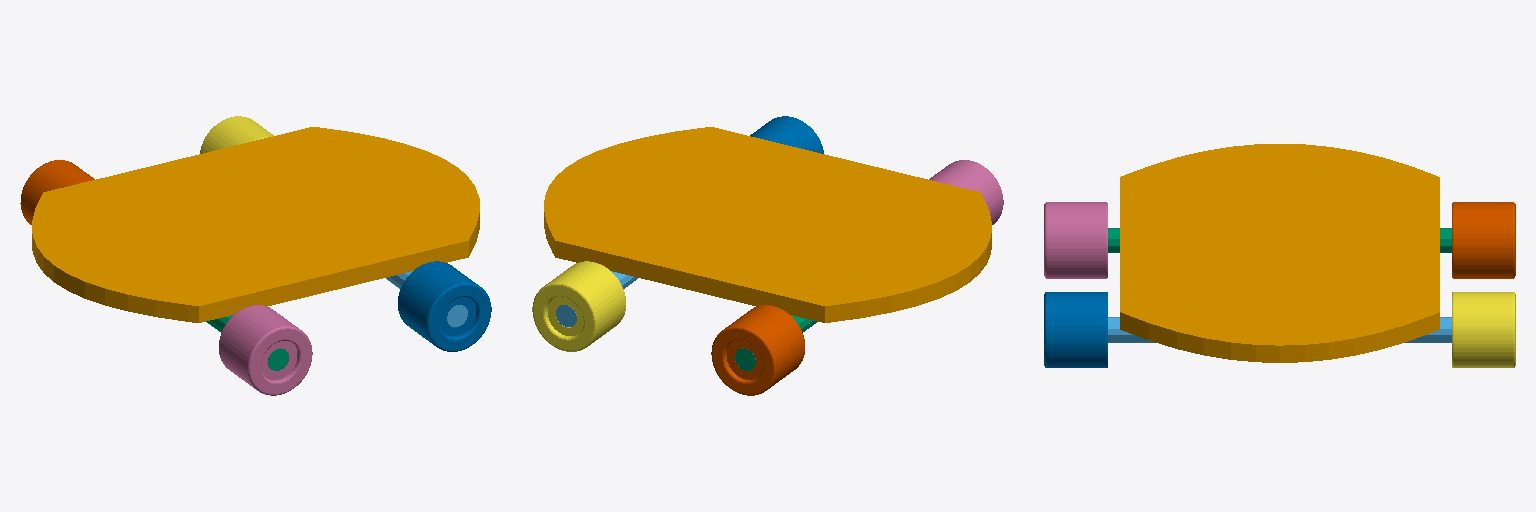
The robot description file, URDF, robot "bot":
<?xml version="1.0" ?>
<!-- =================================================================================== -->
<!-- |    This document was autogenerated by xacro from chassis_bot_xacro.xacro        | -->
<!-- |    EDITING THIS FILE BY HAND IS NOT RECOMMENDED                                 | -->
<!-- =================================================================================== -->
<robot name="bot" xmlns:xacro="https://www.ros.org/wiki/xacro">
  <link name="base_link_bot">
    <visual>
      <origin rpy="0 0 0" xyz="0 0 0"/>
      <geometry>
        <mesh filename="package://flip1_description/meshes/base_link_bot.STL"/>
      </geometry>
      <material name="blue"/>
    </visual>
    <collision>
      <origin rpy="0 0 0" xyz="0 0 0"/>
      <geometry>
        <mesh filename="package://flip1_description/meshes/base_link_bot.STL"/>
      </geometry>
    </collision>
    <inertial>
      <mass value="9.976679411"/>
      <origin rpy="0 0 0" xyz="-1.84685805937335E-06 0 0.015"/>
      <inertia ixx="0.187958008238022" ixy="3.08331692261721E-07" ixz="3.17637355220364E-19" iyy="0.381816176166743" iyz="1.41513138596527E-18" izz="0.568277677102426"/>
    </inertial>
  </link>
  <link name="link1">
    <visual>
      <origin rpy="0 0 0" xyz="0 0 0"/>
      <geometry>
        <mesh filename="package://flip1_description/meshes/link1.STL"/>
      </geometry>
      <material name="orange"/>
    </visual>
    <collision>
      <origin rpy="0 0 0" xyz="0 0 0"/>
      <geometry>
        <mesh filename="package://flip1_description/meshes/link1.STL"/>
      </geometry>
    </collision>
    <inertial>
      <mass value="1.0019"/>
      <origin rpy="0 0 0" xyz="-1.1102E-16 -0.36 0.0026615"/>
      <inertia ixx="0.03933" ixy="5.6898E-21" ixz="8.3057E-21" iyy="0.00026796" iyz="-2.4157E-19" izz="0.039273"/>
    </inertial>
  </link>
  <link name="link2">
    <visual>
      <origin rpy="0 0 0" xyz="0 0 0"/>
      <geometry>
        <mesh filename="package://flip1_description/meshes/link2.STL"/>
      </geometry>
      <material name="orange"/>
    </visual>
    <collision>
      <origin rpy="0 0 0" xyz="0 0 0"/>
      <geometry>
        <mesh filename="package://flip1_description/meshes/link2.STL"/>
      </geometry>
    </collision>
    <inertial>
      <mass value="1.0019"/>
      <origin rpy="0 0 0" xyz="-1.11022302462516E-16 -0.36 0.00266148520433351"/>
      <inertia ixx="0.0393298433372476" ixy="1.31346575687572E-21" ixz="8.30571622249648E-21" iyy="0.000267958739020857" iyz="-9.65217337723654E-20" izz="0.0392729406311258"/>
    </inertial>
  </link>
  <link name="link3">
    <visual>
      <origin rpy="0 0 0" xyz="0 0 0"/>
      <geometry>
        <mesh filename="package://flip1_description/meshes/link3.STL"/>
      </geometry>
      <material name="purple"/>
    </visual>
    <collision>
      <origin rpy="0 0 0" xyz="0 0 0"/>
      <geometry>
        <mesh filename="package://flip1_description/meshes/link3.STL"/>
      </geometry>
    </collision>
    <inertial>
      <mass value="0.95841"/>
      <origin rpy="0 0 0" xyz="0 -2.7756E-17 0"/>
      <inertia ixx="0.00172" ixy="6.5405E-20" ixz="7.1492E-20" iyy="0.0019649" iyz="-1.0822E-19" izz="0.00172"/>
    </inertial>
  </link>
  <link name="link4">
    <visual>
      <origin rpy="0 0 0" xyz="0 0 0"/>
      <geometry>
        <mesh filename="package://flip1_description/meshes/link4.STL"/>
      </geometry>
      <material name="purple"/>
    </visual>
    <collision>
      <origin rpy="0 0 0" xyz="0 0 0"/>
      <geometry>
        <mesh filename="package://flip1_description/meshes/link4.STL"/>
      </geometry>
    </collision>
    <inertial>
      <mass value="0.95841"/>
      <origin rpy="0 0 0" xyz="0 -1.1102E-16 0"/>
      <inertia ixx="0.00172" ixy="3.8103E-20" ixz="7.1492E-20" iyy="0.0019649" iyz="-8.0921E-20" izz="0.00172"/>
    </inertial>
  </link>
  <link name="link5">
    <visual>
      <origin rpy="0 0 0" xyz="0 0 0"/>
      <geometry>
        <mesh filename="package://flip1_description/meshes/link5.STL"/>
      </geometry>
      <material name="purple"/>
    </visual>
    <collision>
      <origin rpy="0 0 0" xyz="0 0 0"/>
      <geometry>
        <mesh filename="package://flip1_description/meshes/link5.STL"/>
      </geometry>
    </collision>
    <inertial>
      <mass value="0.95841"/>
      <origin rpy="0 0 0" xyz="1.11022302462516E-16 -2.77555756156289E-17 0"/>
      <inertia ixx="0.00172004064353737" ixy="9.19911852675595E-22" ixz="5.42101086242752E-20" iyy="0.00196493476186237" iyz="-9.05839369835372E-20" izz="0.00172004064353737"/>
    </inertial>
  </link>
  <link name="link6">
    <visual>
      <origin rpy="0 0 0" xyz="0 0 0"/>
      <geometry>
        <mesh filename="package://flip1_description/meshes/link6.STL"/>
      </geometry>
      <material name="purple"/>
    </visual>
    <collision>
      <origin rpy="0 0 0" xyz="0 0 0"/>
      <geometry>
        <mesh filename="package://flip1_description/meshes/link6.STL"/>
      </geometry>
    </collision>
    <inertial>
      <mass value="0.95841"/>
      <origin rpy="0 0 0" xyz="1.1102E-16 -1.1102E-16 0"/>
      <inertia ixx="0.00172" ixy="-1.7049E-20" ixz="2.1684E-19" iyy="0.0019649" iyz="-9.2729E-20" izz="0.00172"/>
    </inertial>
  </link>
  <joint name="joint1" type="fixed">
    <origin rpy="0 0 0" xyz="0.16597 0.36 -0.04"/>
    <parent link="base_link_bot"/>
    <child link="link1"/>
  </joint>
  <joint name="joint2" type="fixed">
    <origin rpy="0 0 0" xyz="-0.16597 0.36 -0.04"/>
    <parent link="base_link_bot"/>
    <child link="link2"/>
  </joint>
  <joint name="joint3" type="continuous">
    <origin rpy="0 0 0" xyz="0 -0.041744 0"/>
    <parent link="link1"/>
    <child link="link3"/>
    <axis xyz="0 1 0"/>
  </joint>
  <joint name="joint4" type="continuous">
    <origin rpy="0 0 0" xyz="0 -0.67826 0"/>
    <parent link="link1"/>
    <child link="link4"/>
    <axis xyz="0 1 0"/>
  </joint>
  <joint name="joint5" type="continuous">
    <origin rpy="0 0.082724 0" xyz="0 -0.041744 0"/>
    <parent link="link2"/>
    <child link="link5"/>
    <axis xyz="0 1 0"/>
  </joint>
  <joint name="joint6" type="continuous">
    <origin rpy="0 -0.55404 0" xyz="0 -0.67826 0"/>
    <parent link="link2"/>
    <child link="link6"/>
    <axis xyz="0 1 0"/>
  </joint>
</robot>

--- Facts derived from the render (not from the file) ---
3 views of the same robot in one strip: view 1: azimuth 30°, elevation 25°; view 2: azimuth 150°, elevation 25°; view 3: azimuth 270°, elevation 25° (orthographic).
Model bot with 7 links and 6 joints (4 continuous, 2 fixed), rooted at base_link_bot, posed all joints at 0.
Visible links, largest first — view 1: base_link_bot, link4, link6, link5, link3, link1, link2; view 2: base_link_bot, link3, link5, link6, link4, link1, link2; view 3: base_link_bot, link5, link6, link3, link4, link1, link2.
Boxes of the visible links, x1=… form: base_link_bot: x1=32, y1=127, x2=479, y2=322; link4: x1=398, y1=261, x2=491, y2=351; link6: x1=219, y1=305, x2=312, y2=395; link5: x1=20, y1=160, x2=94, y2=224; link3: x1=200, y1=116, x2=273, y2=153; link1: x1=386, y1=271, x2=467, y2=326; link2: x1=206, y1=315, x2=288, y2=370; base_link_bot: x1=544, y1=127, x2=991, y2=322; link3: x1=532, y1=261, x2=625, y2=351; link5: x1=711, y1=305, x2=804, y2=395; link6: x1=929, y1=160, x2=1003, y2=224; link4: x1=750, y1=116, x2=823, y2=153; link1: x1=556, y1=271, x2=637, y2=326; link2: x1=735, y1=315, x2=817, y2=370; base_link_bot: x1=1120, y1=144, x2=1439, y2=362; link5: x1=1452, y1=202, x2=1515, y2=278; link6: x1=1044, y1=202, x2=1107, y2=278; link3: x1=1452, y1=292, x2=1515, y2=367; link4: x1=1044, y1=292, x2=1107, y2=367; link1: x1=1108, y1=317, x2=1451, y2=342; link2: x1=1108, y1=228, x2=1451, y2=252.
Bounding box of the posed robot: 0.7477 × 0.7365 × 0.13 m (x, y, z).
Meshes: 7 distinct files referenced, 7 mesh visuals loaded (7 binary STL).